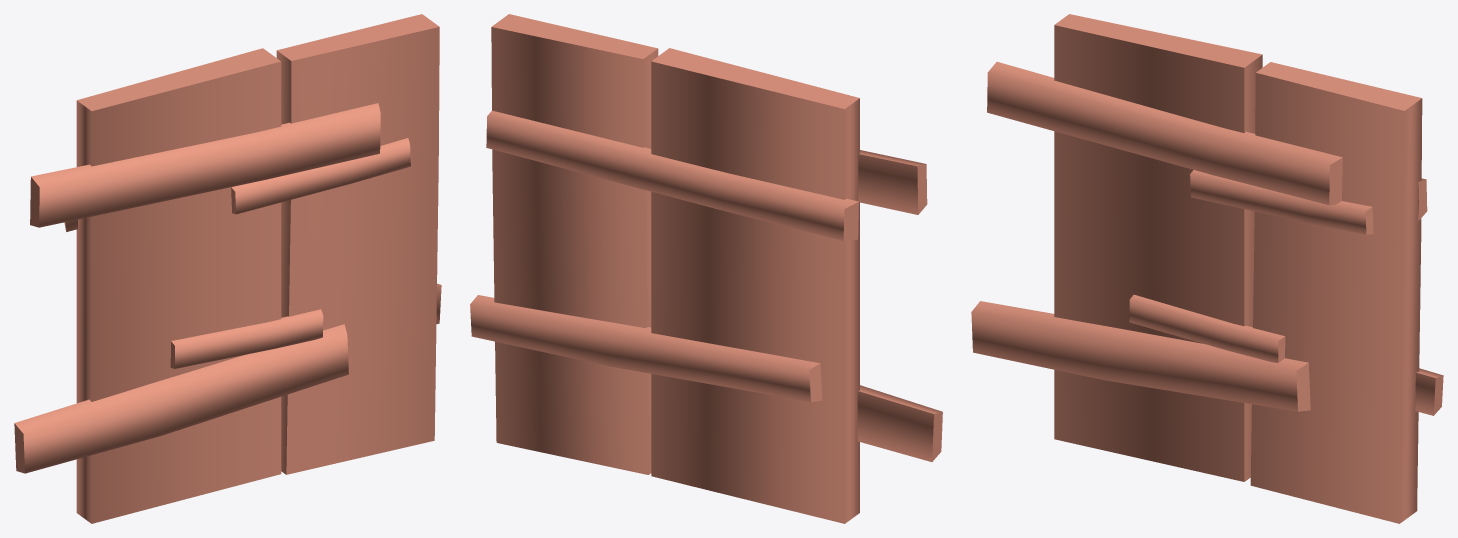
The model's file is shutter_02.fbx.
The picture shows the model from 3 angles, left to right: view 1: azimuth 30°, elevation 25°; view 2: azimuth 150°, elevation 25°; view 3: azimuth 330°, elevation 25°; orthographic projection.
Visible parts, largest first — view 1: Cube.193; view 2: Cube.193; view 3: Cube.193.
Boxes of the visible parts, x1,y1,x2,y2 form: Cube.193: (14,14,441,523); Cube.193: (470,14,942,523); Cube.193: (971,14,1443,523).
Bounding box in the file's own units: 1.2 × 1.09 × 0.1567.
